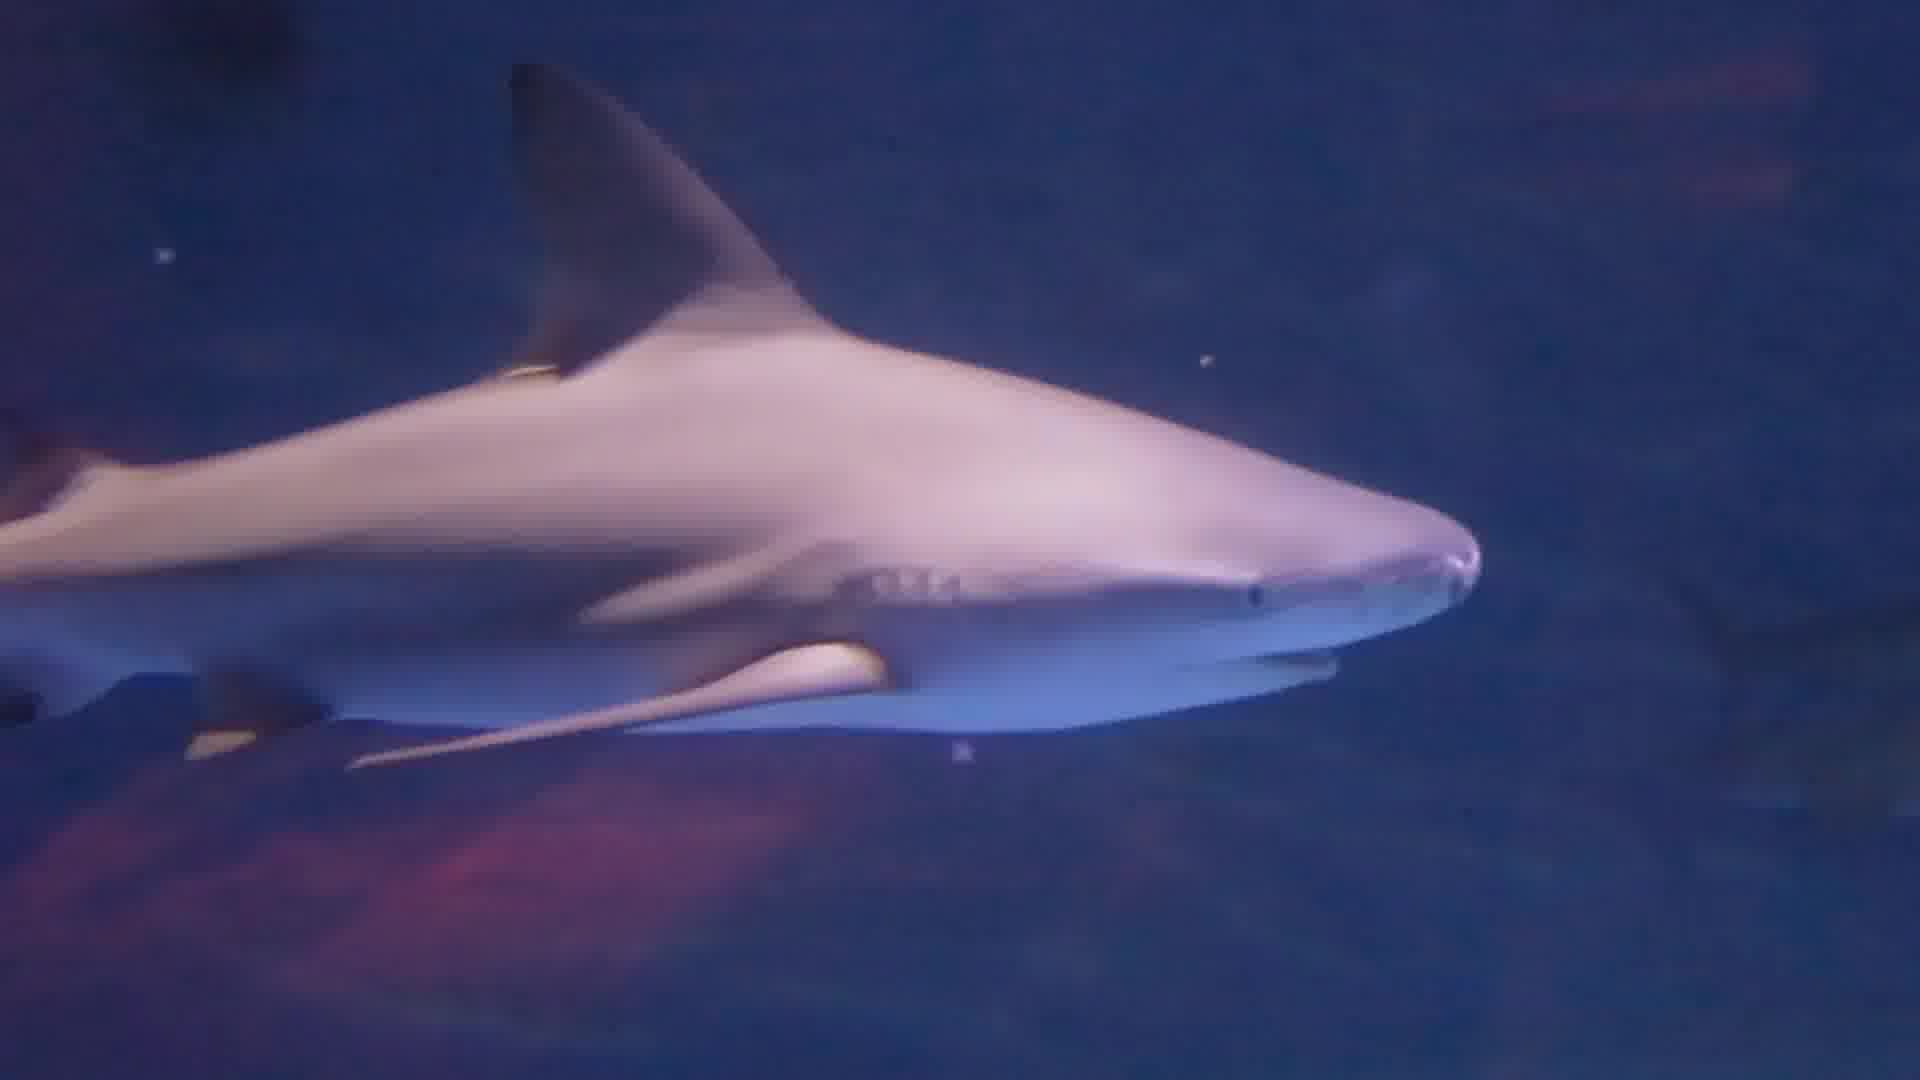Carcharhinus leucas: (1, 71, 1486, 820)
